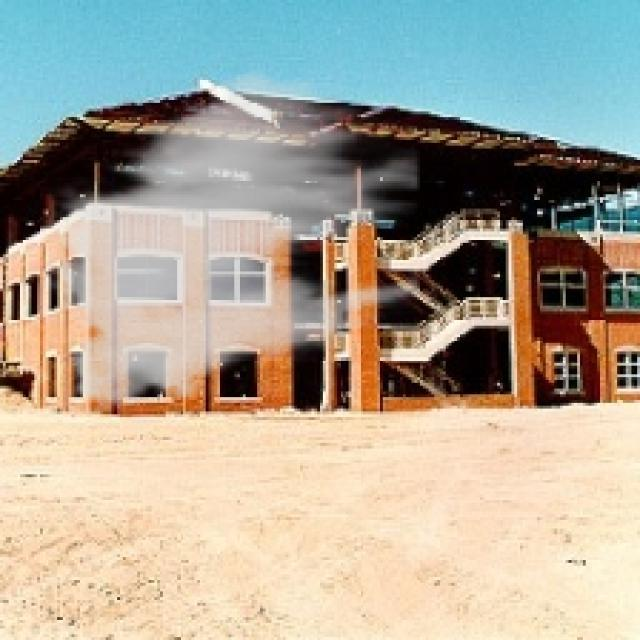Smoke: (40, 60, 420, 426)
